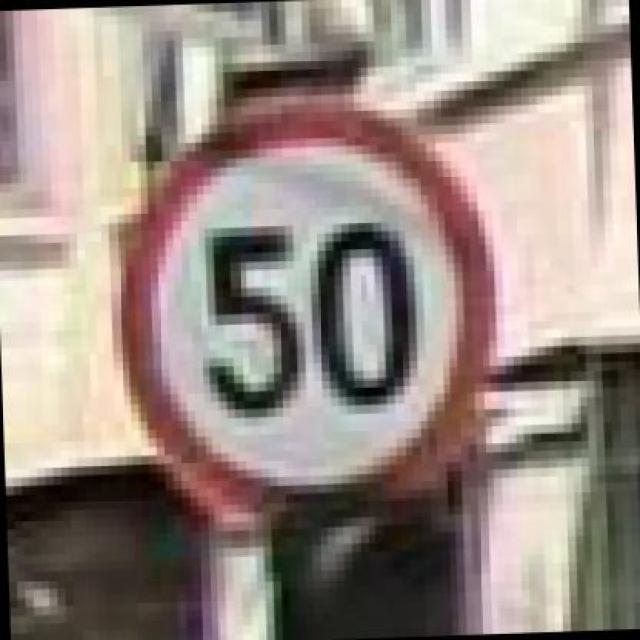Limite-50: (110, 90, 502, 540)
